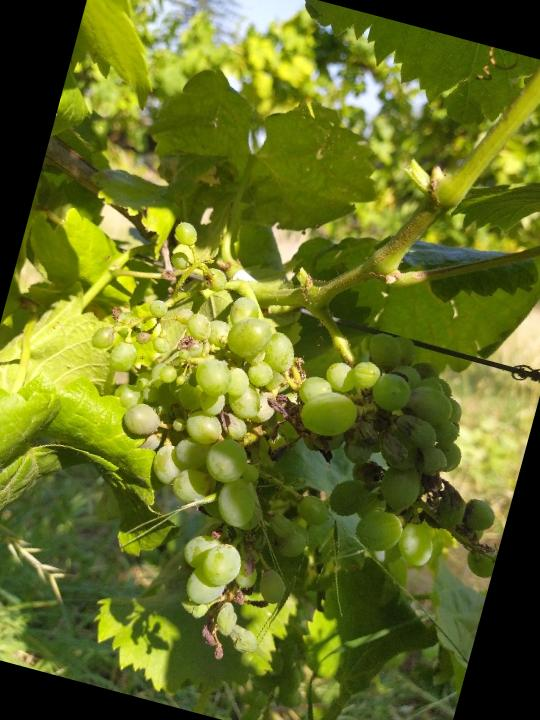grape: (16, 201, 382, 679), (256, 310, 540, 596)
